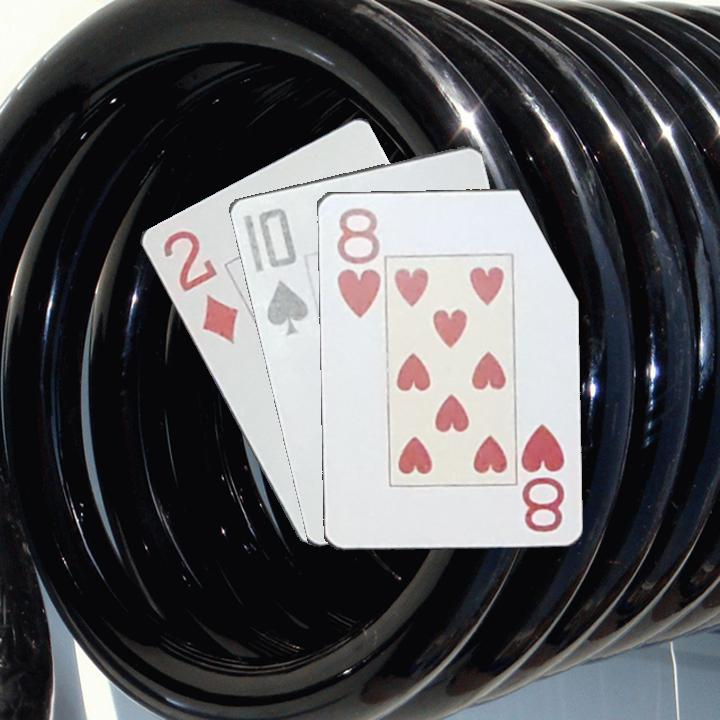2d: (156, 226, 241, 347)
8h: (517, 419, 567, 535), (332, 204, 381, 320)
Ts: (254, 203, 311, 338)
